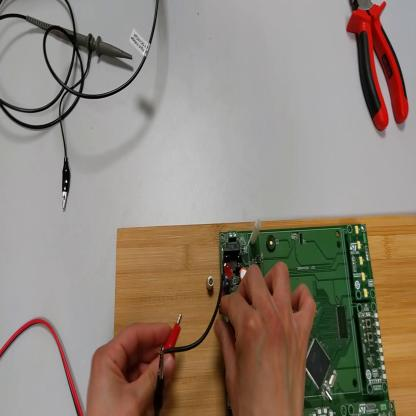hand: (216, 261, 316, 414), (88, 322, 179, 416)
low voltage board: (156, 219, 395, 415)
oscilloscope probe tip: (27, 17, 134, 61)
pliers: (347, 3, 410, 132)
working area: (112, 211, 416, 415)
